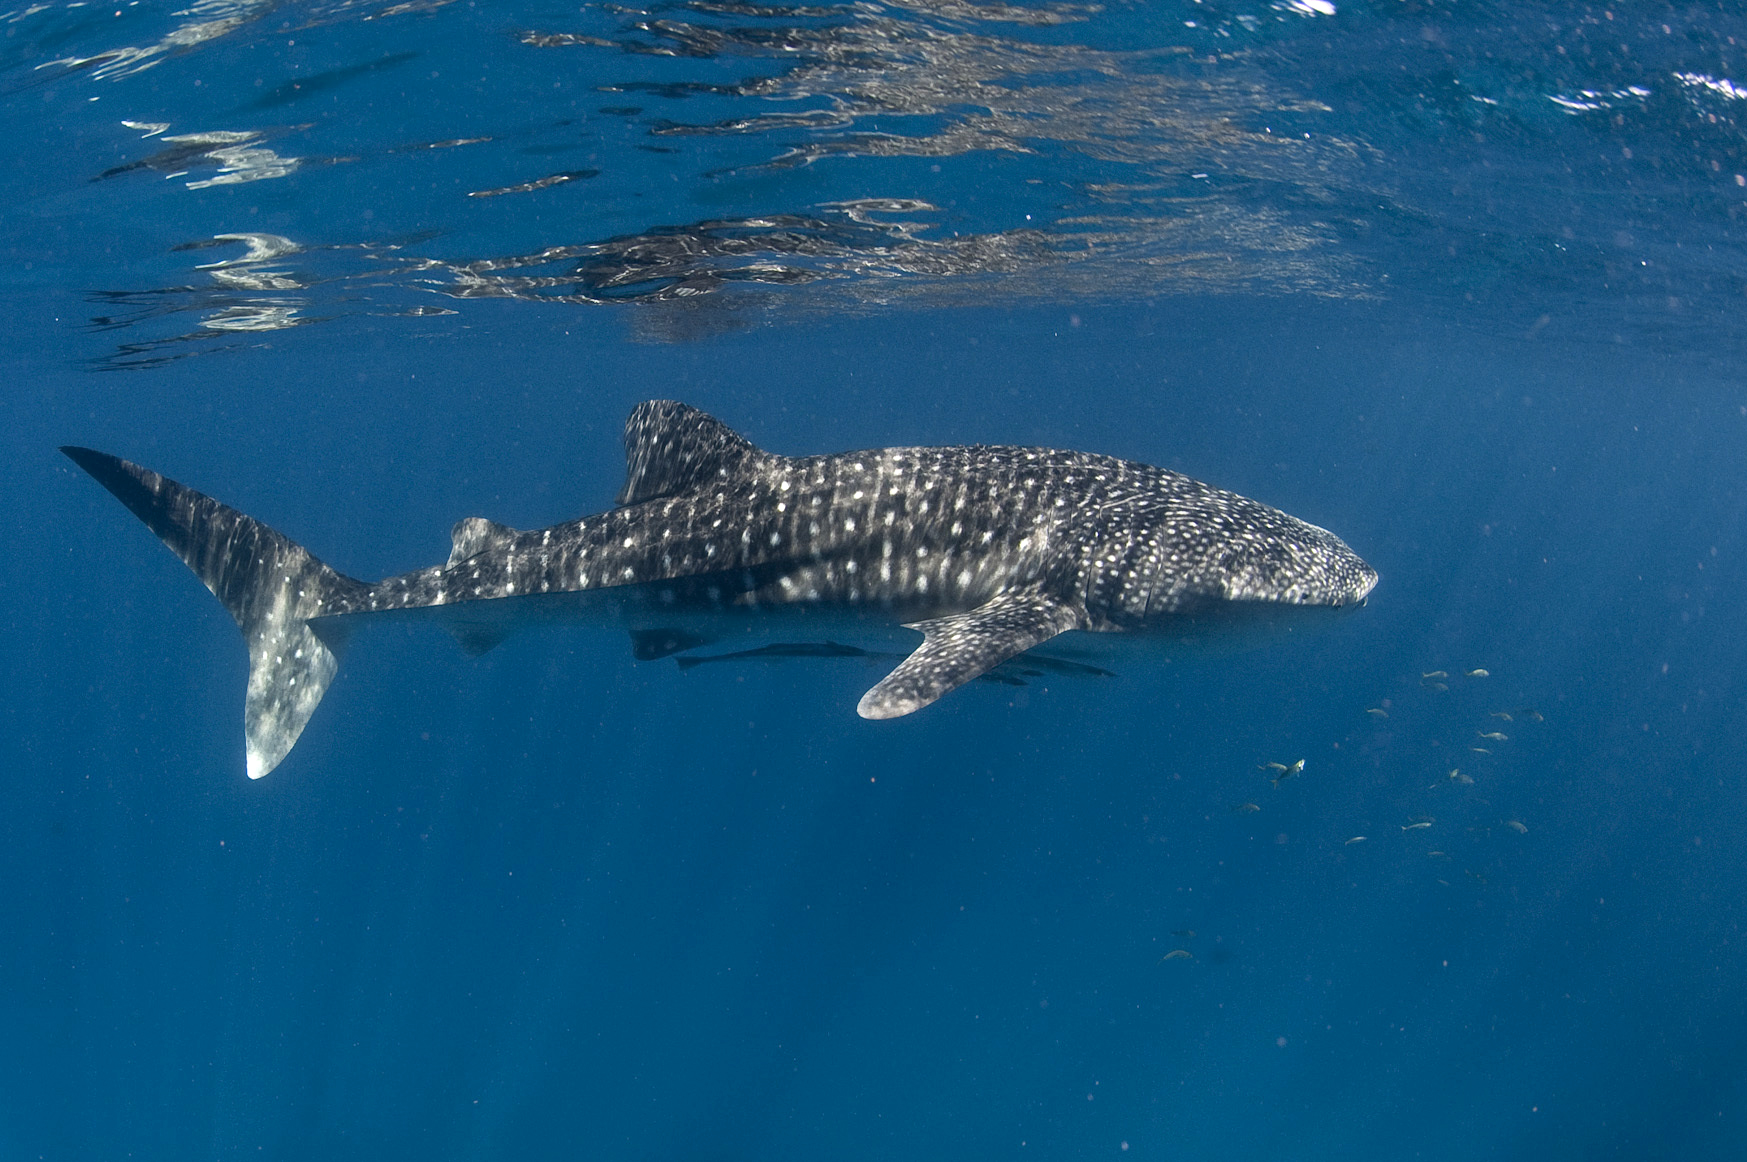Rhincodon_typusw: (54, 397, 1463, 778)
